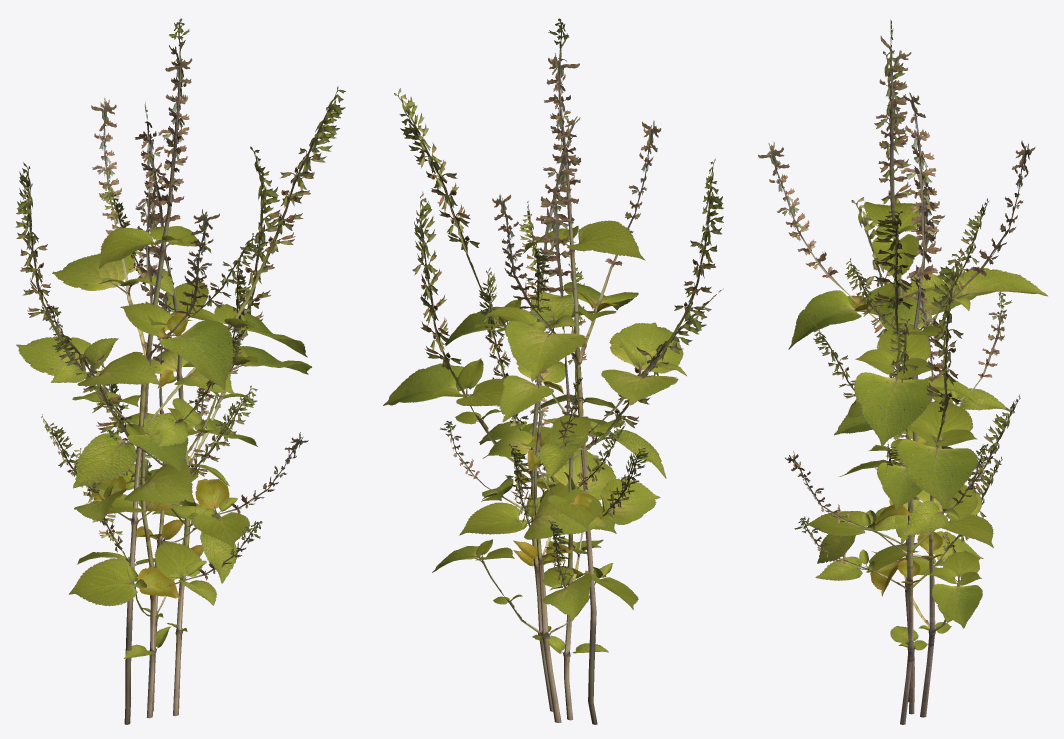
File: shrub_03.fbx
3 renders of one model, left to right at view 1: azimuth 30°, elevation 25°; view 2: azimuth 150°, elevation 25°; view 3: azimuth 270°, elevation 25°, orthographic. The views are drawn at different scales.
Parts seen in each view (by area): view 1: shrub_03_a, shrub_03_b, shrub_03_c, shrub_03_d; view 2: shrub_03_a, shrub_03_b, shrub_03_c, shrub_03_d; view 3: shrub_03_a, shrub_03_b, shrub_03_c, shrub_03_d.
Boxes of the visible parts, bbox=[...] form: shrub_03_a: bbox=[15, 18, 345, 724]; shrub_03_b: bbox=[46, 102, 311, 716]; shrub_03_c: bbox=[46, 175, 262, 718]; shrub_03_d: bbox=[69, 265, 237, 711]; shrub_03_a: bbox=[394, 18, 723, 724]; shrub_03_b: bbox=[383, 116, 723, 711]; shrub_03_c: bbox=[479, 199, 619, 720]; shrub_03_d: bbox=[432, 277, 638, 722]; shrub_03_a: bbox=[758, 19, 1047, 702]; shrub_03_b: bbox=[785, 92, 1020, 724]; shrub_03_c: bbox=[794, 181, 1012, 714]; shrub_03_d: bbox=[817, 276, 988, 717].
Bounding box in the file's own units: 0.2006 × 0.4028 × 0.1512.
1 material, 1 textured.
